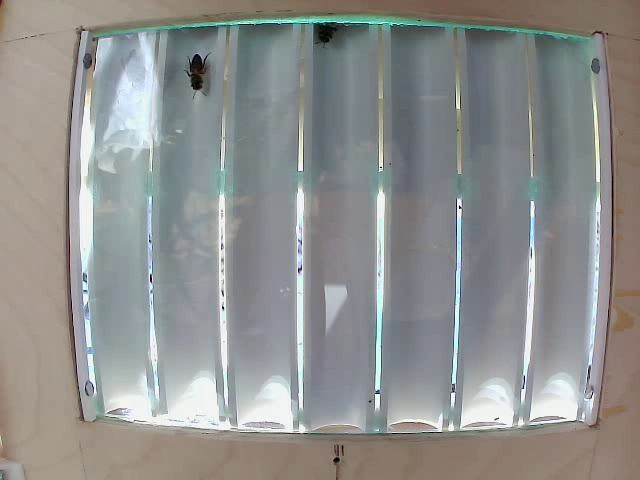bee: (175, 46, 220, 93)
